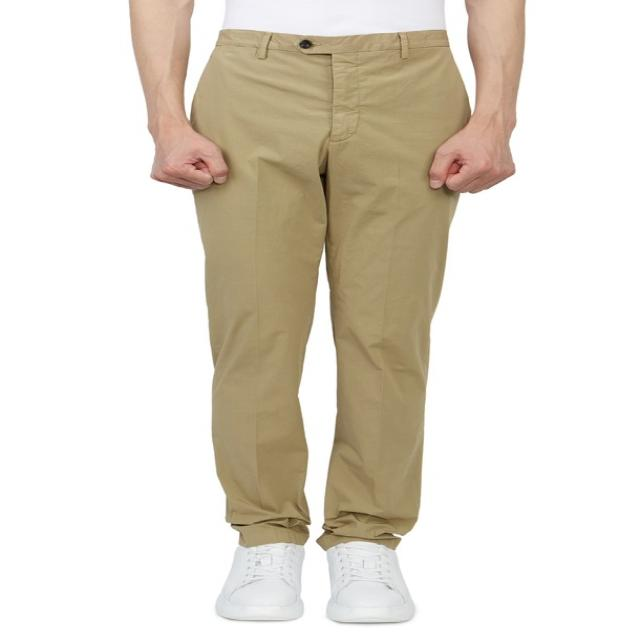pants: (173, 23, 475, 546)
